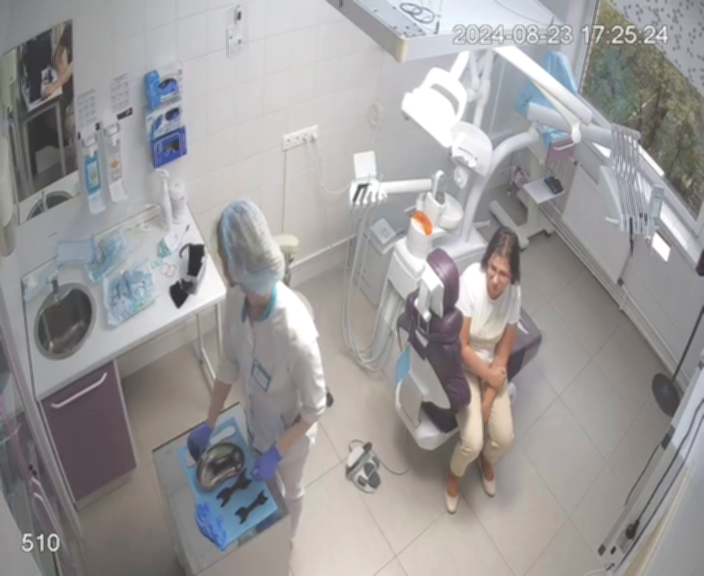Empty: (391, 227, 544, 516)
